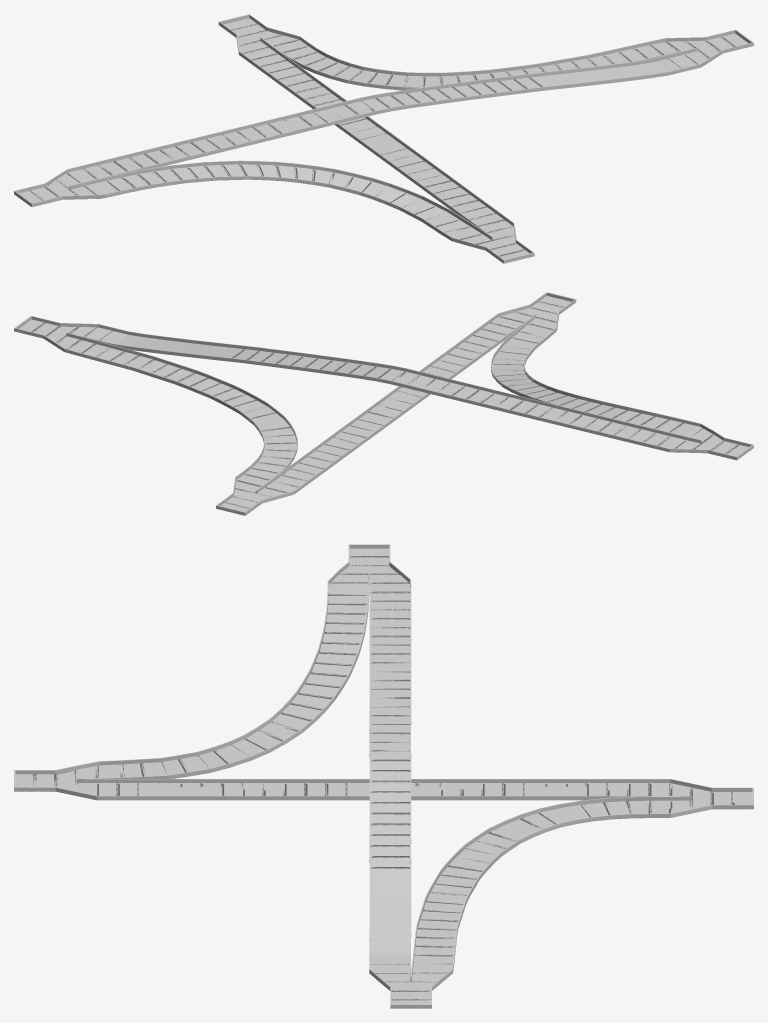
Rendered from Track5.fbx.
3 views of the same model, one above another, from view 1: azimuth 30°, elevation 25°; view 2: azimuth 150°, elevation 25°; view 3: azimuth 270°, elevation 25° (orthographic). The views are drawn at different scales.
Parts seen in each view (by area): view 1: TrackHolo, TrackWalls, TrackFloor, TrackStructure; view 2: TrackHolo, TrackWalls, TrackFloor, TrackStructure; view 3: TrackHolo, TrackFloor, TrackWalls, TrackStructure.
Boxes of the visible parts, x1,y1,x2,y2 form: TrackHolo: (19, 18, 748, 259); TrackWalls: (14, 14, 753, 263); TrackFloor: (24, 18, 747, 256); TrackStructure: (29, 23, 735, 260); TrackHolo: (20, 296, 748, 511); TrackWalls: (14, 292, 753, 515); TrackFloor: (19, 296, 738, 511); TrackStructure: (31, 301, 751, 513); TrackHolo: (15, 548, 752, 1003); TrackFloor: (15, 548, 752, 1003); TrackWalls: (14, 544, 753, 1008); TrackStructure: (14, 556, 741, 1000).
Bounding box in the file's own units: 96000 × 4445 × 71000.
